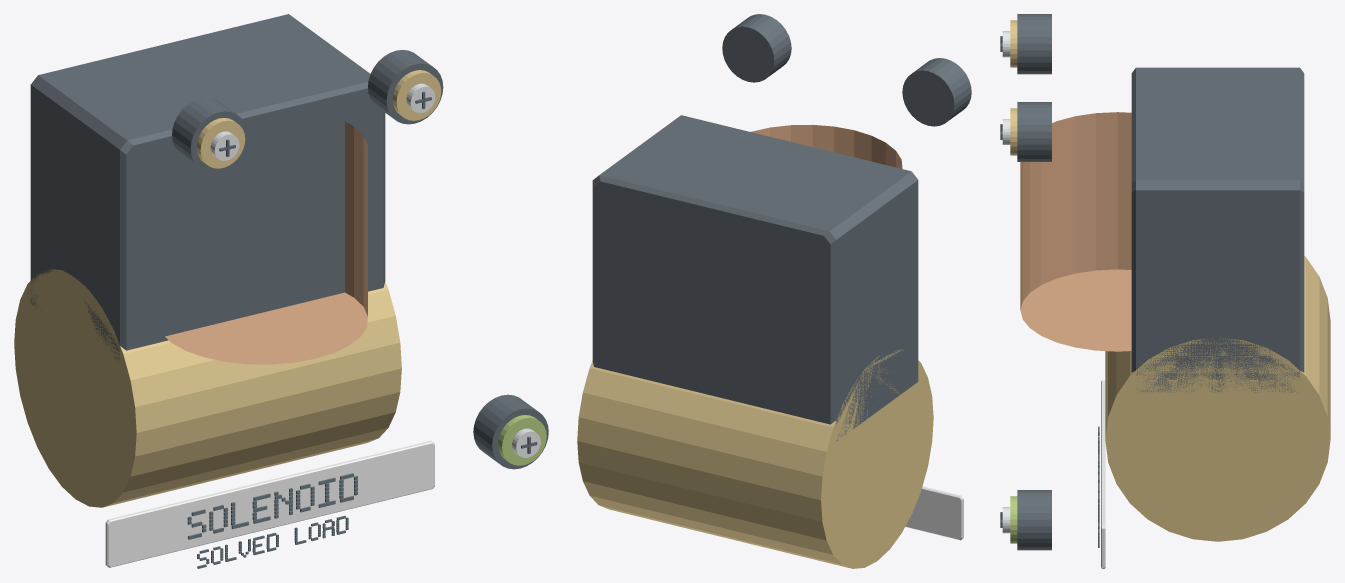
The model's file is solenoidValve.glb.
3 renders of one model, left to right at view 1: azimuth 30°, elevation 25°; view 2: azimuth 150°, elevation 25°; view 3: azimuth 270°, elevation 25°, orthographic. The views are drawn at different scales.
Parts seen in each view (by area): view 1: solenoidValve-detailed; view 2: solenoidValve-detailed; view 3: solenoidValve-detailed.
Part boxes in pixels (x1,y1,x2,y2): solenoidValve-detailed: (14,14,548,568); solenoidValve-detailed: (577,14,971,568); solenoidValve-detailed: (1000,14,1330,568).
Size of the model in its own units: 2.19 by 2.61 by 1.72.
